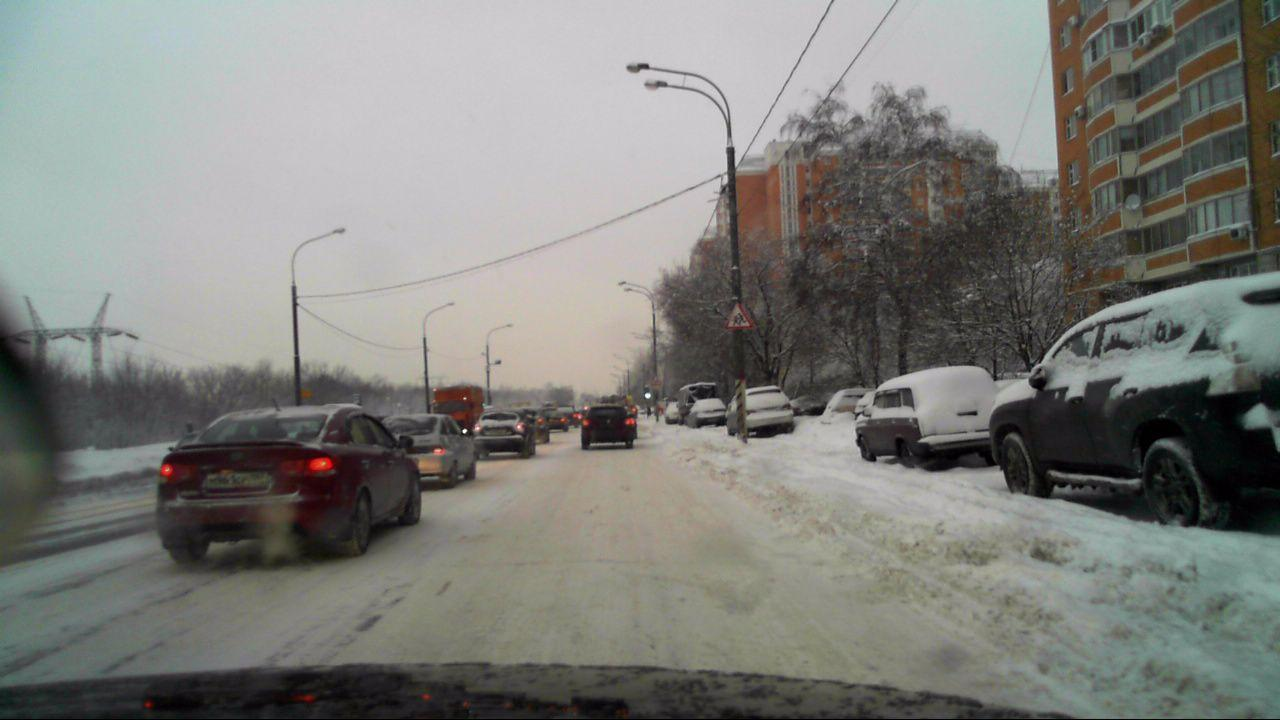road_sign: (722, 302, 756, 330)
